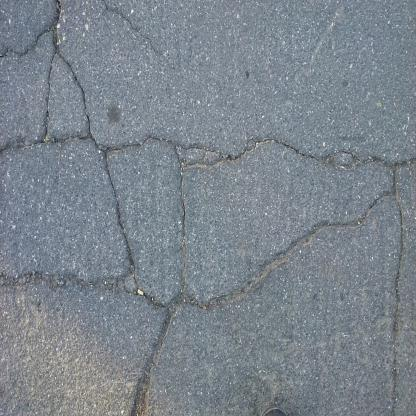Cracks: (0, 130, 402, 317), (0, 1, 94, 160), (386, 148, 415, 416), (131, 290, 183, 416)
